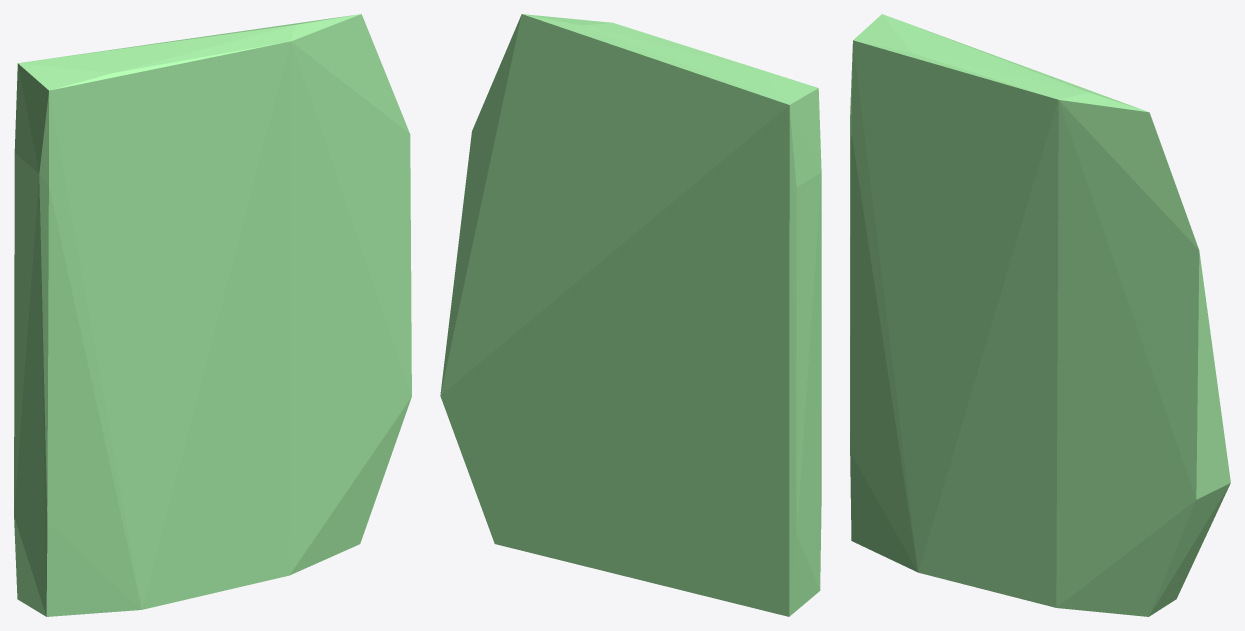
File: panda_rightFinger_coll_3.dae
The picture shows the model from 3 angles, left to right: view 1: azimuth 30°, elevation 25°; view 2: azimuth 150°, elevation 25°; view 3: azimuth 330°, elevation 25°; orthographic projection. The views are drawn at different scales.
Visible parts, largest first — view 1: node; view 2: node; view 3: node.
Part boxes in pixels (<box>): node: <box>14,14,411,616</box>; node: <box>440,14,821,616</box>; node: <box>850,14,1230,616</box>.
Size of the model in its own units: 0.0154 by 0.021 by 0.00316.
